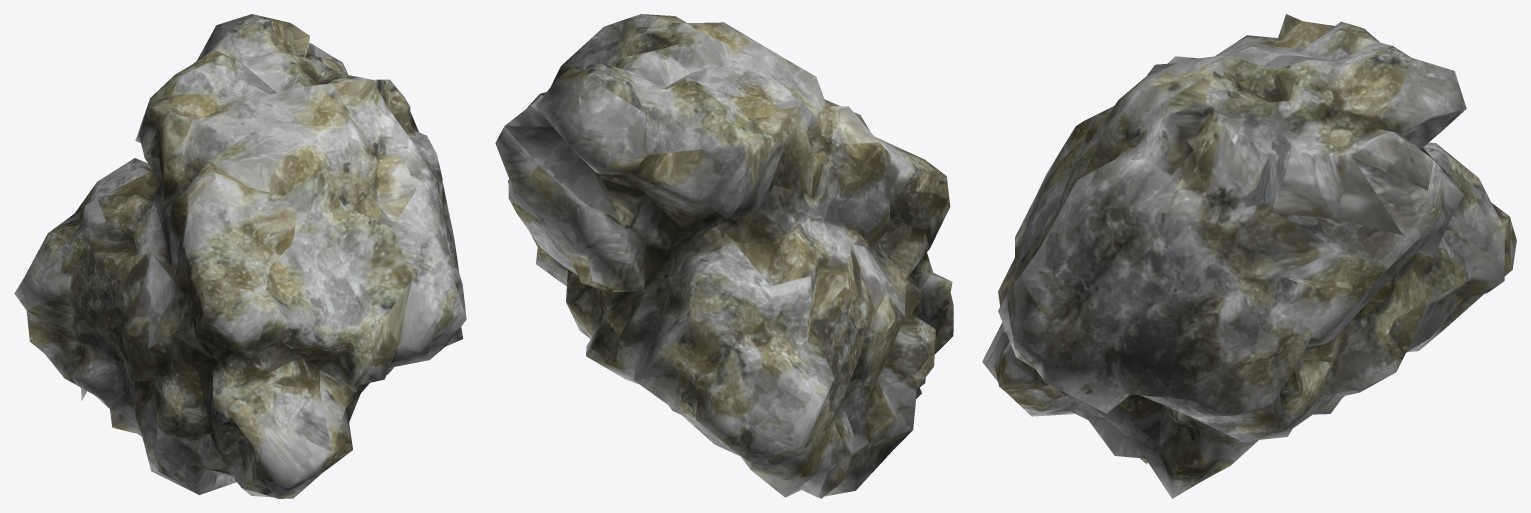
Rendered from apollo_sample20.glb.
3 renders of one model, left to right at view 1: azimuth 30°, elevation 25°; view 2: azimuth 150°, elevation 25°; view 3: azimuth 270°, elevation 25°, orthographic. The views are drawn at different scales.
Parts seen in each view (by area): view 1: apollo_rock20; view 2: apollo_rock20; view 3: apollo_rock20.
Boxes of the visible parts, x1,y1,x2,y2 form: apollo_rock20: (14,14,466,498); apollo_rock20: (495,14,953,498); apollo_rock20: (982,14,1516,498).
Bounding box in the file's own units: 0.0187 × 0.021 × 0.0211.
1 material, 1 textured.
